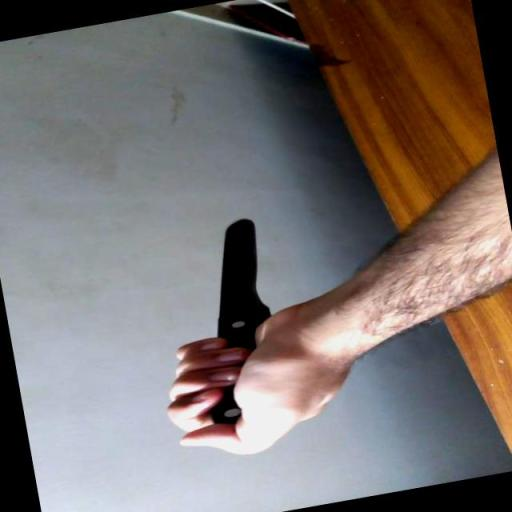knife: (137, 198, 375, 468)
